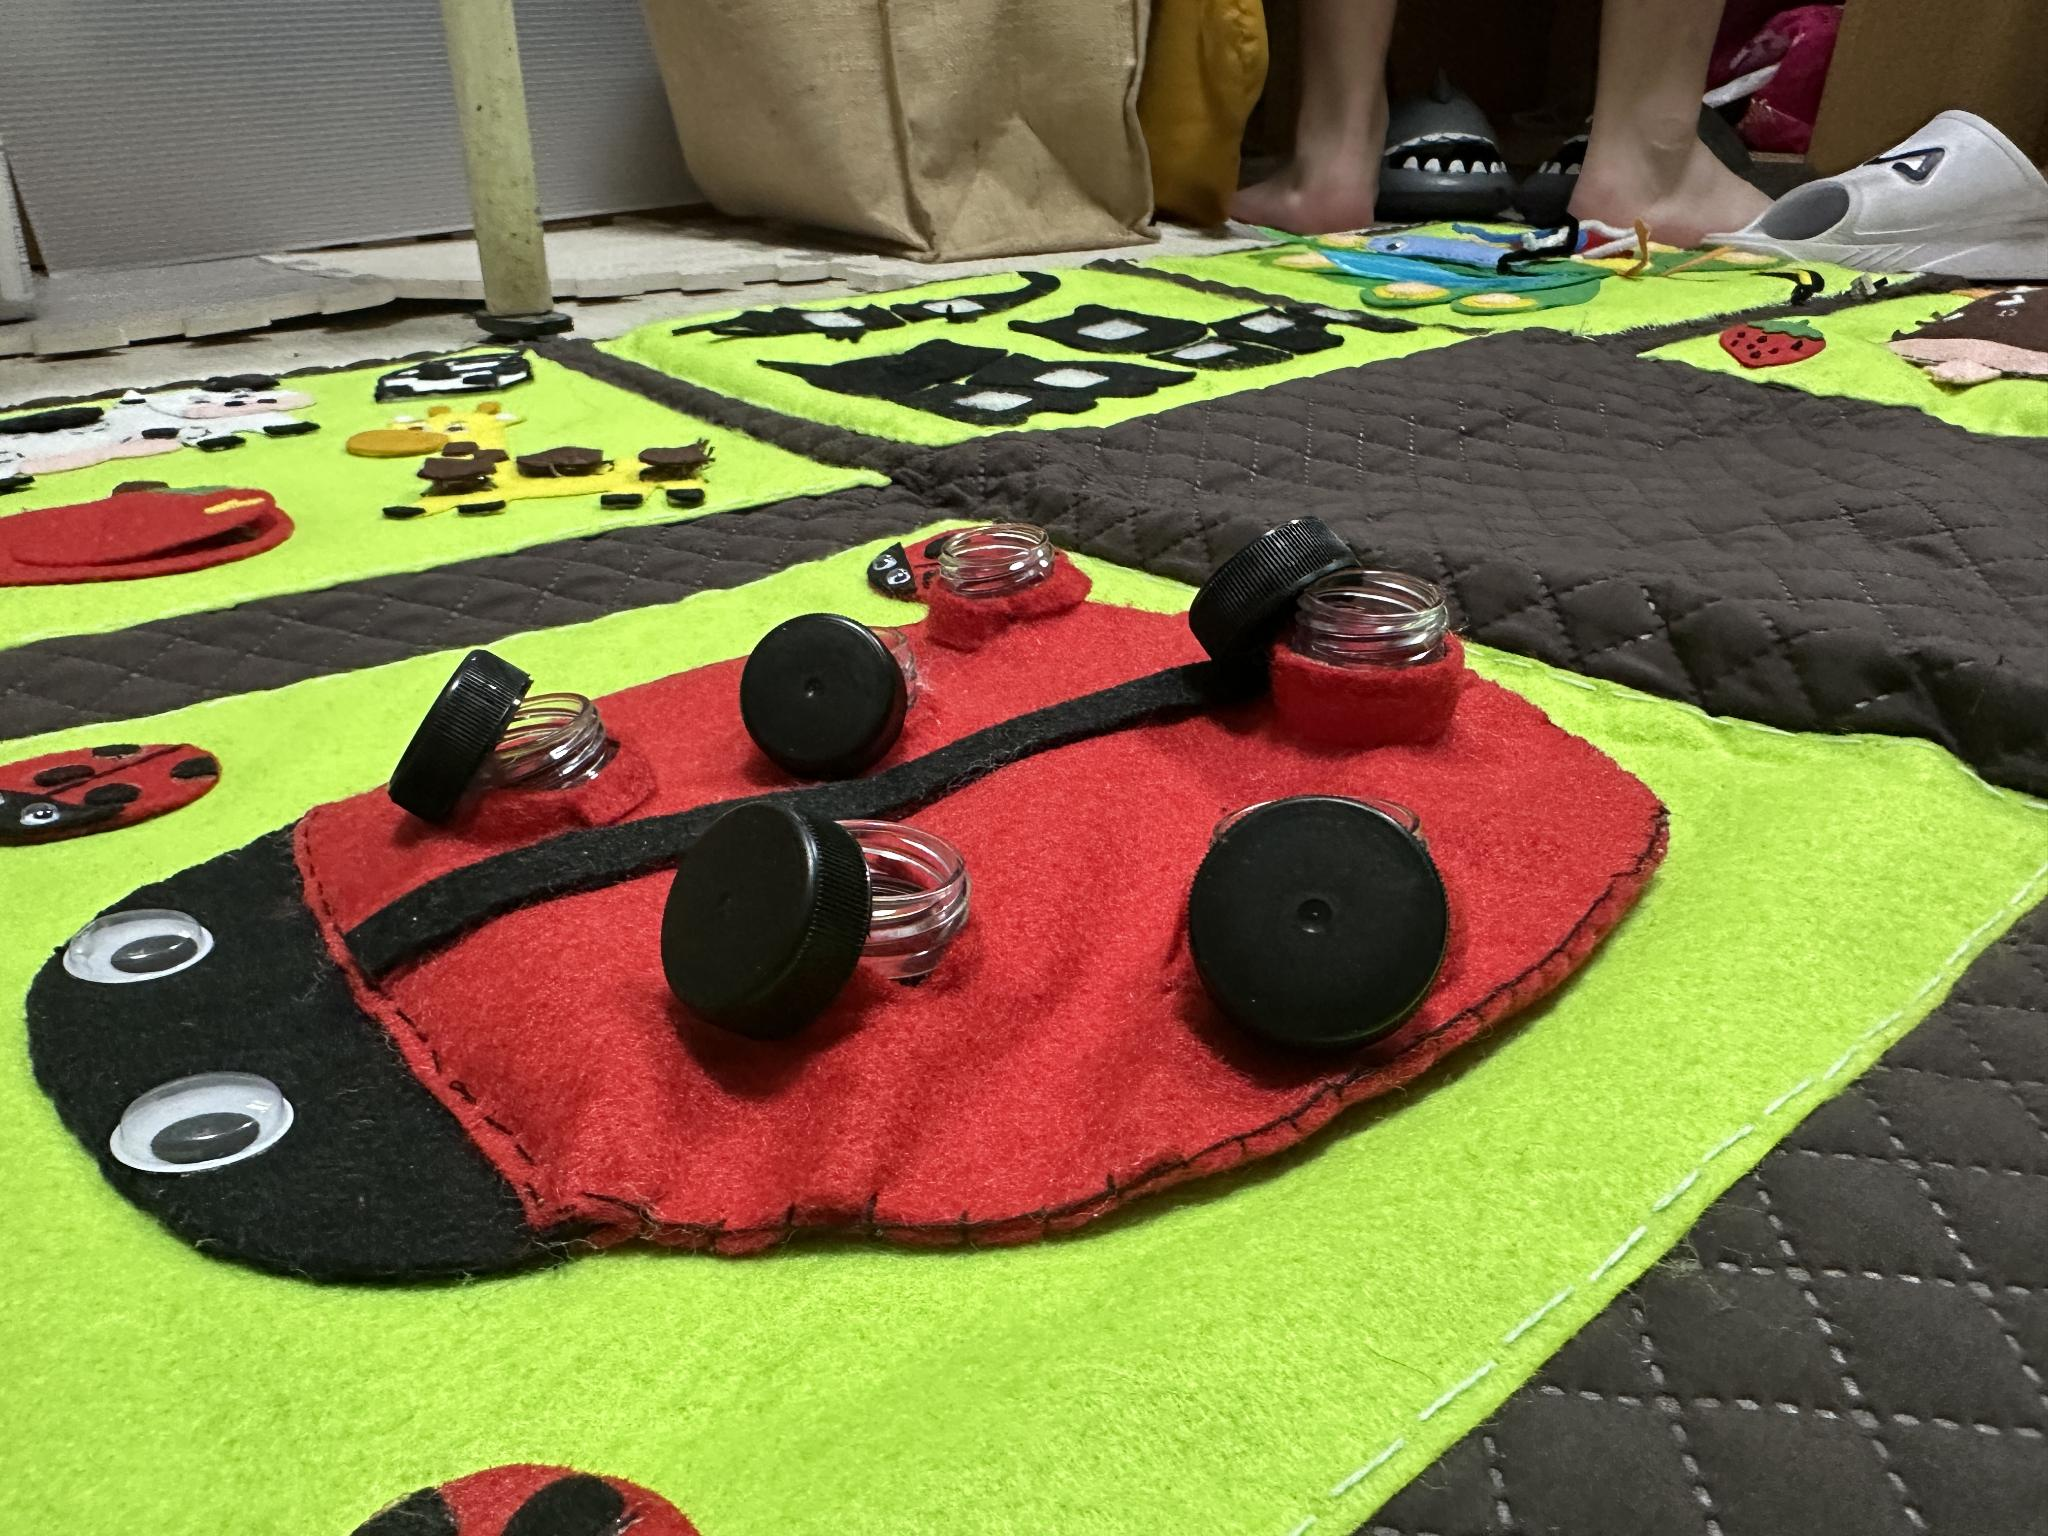cap_ng: (650, 792, 1001, 1062), (1184, 776, 1479, 1070), (1177, 513, 1479, 749), (374, 644, 656, 833), (716, 605, 951, 779)
